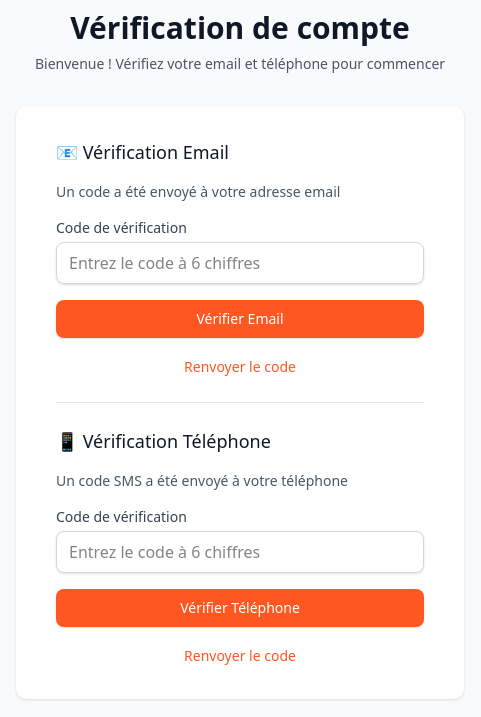
Test: VerifyPage › Email Verification › should show success message after email verification
The image size is (481, 717).
Check: the button "Vérifier Email" is shown, box [56,300,424,338]
Type "123456" into the field with placeholder "Entrez le code à 6 chiffres" below "📧 Vérification Email" at (240, 262), box [56,242,424,284]
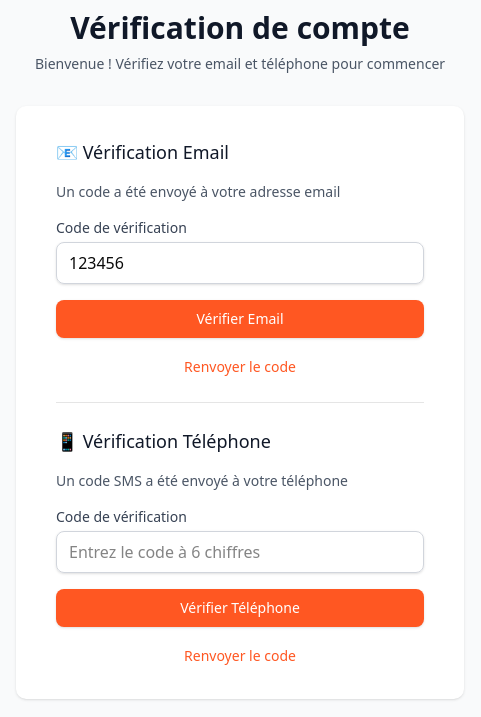
Click the button "Vérifier Email" at (240, 318), box [56,300,424,338]
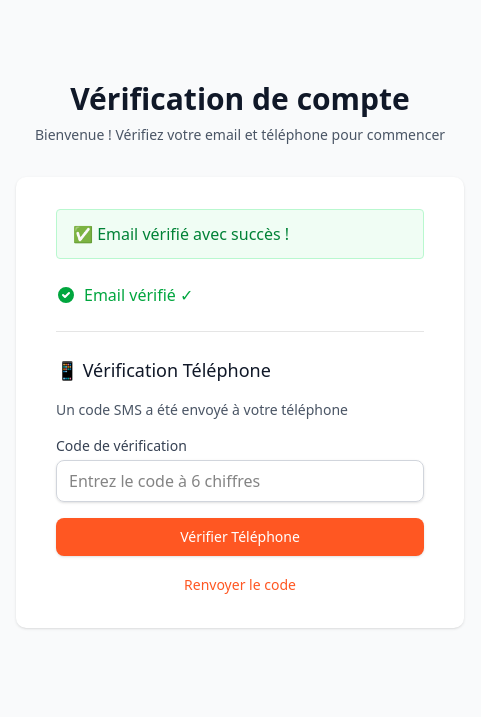
Check: the text "✅ Email vérifié avec succès !" is shown, box [56,208,424,258]
